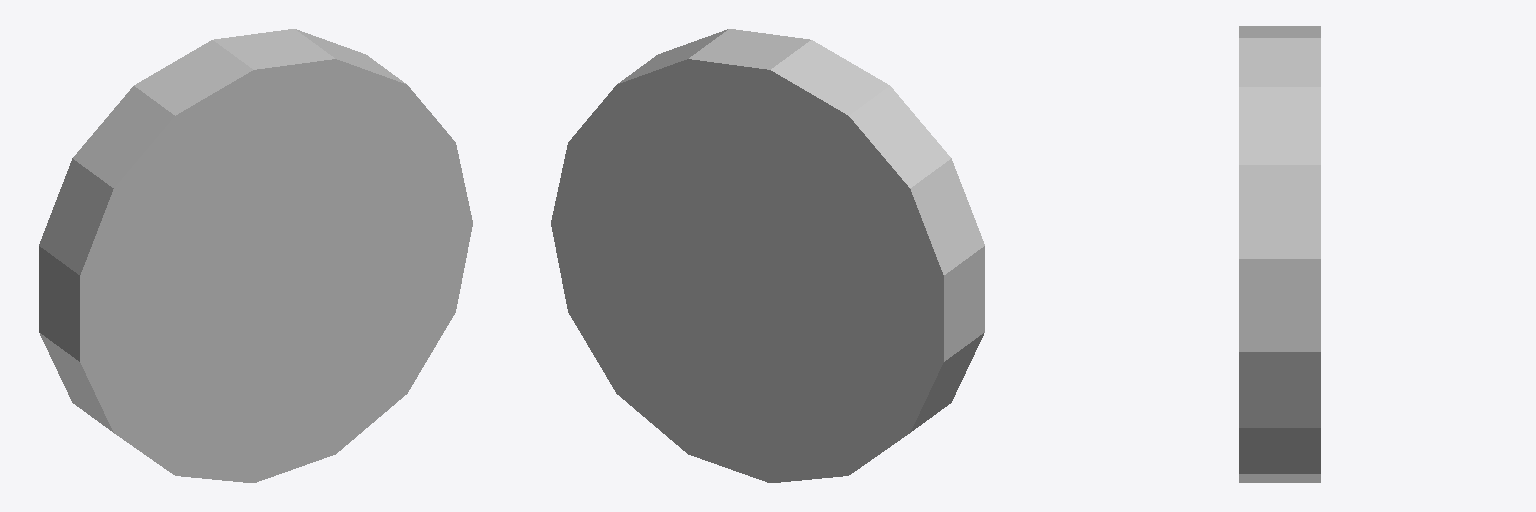
The model's file is bottom_plate.obj.
3 renders of one model, left to right at view 1: azimuth 30°, elevation 25°; view 2: azimuth 150°, elevation 25°; view 3: azimuth 270°, elevation 25°, orthographic.
Parts seen in each view (by area): view 1: Solid1; view 2: Solid1; view 3: Solid1.
Boxes of the visible parts, x1,y1,x2,y2 form: Solid1: [39, 29, 472, 482]; Solid1: [551, 29, 984, 482]; Solid1: [1239, 26, 1320, 482].
Bounding box in the file's own units: 0.1919 × 0.1929 × 0.035.